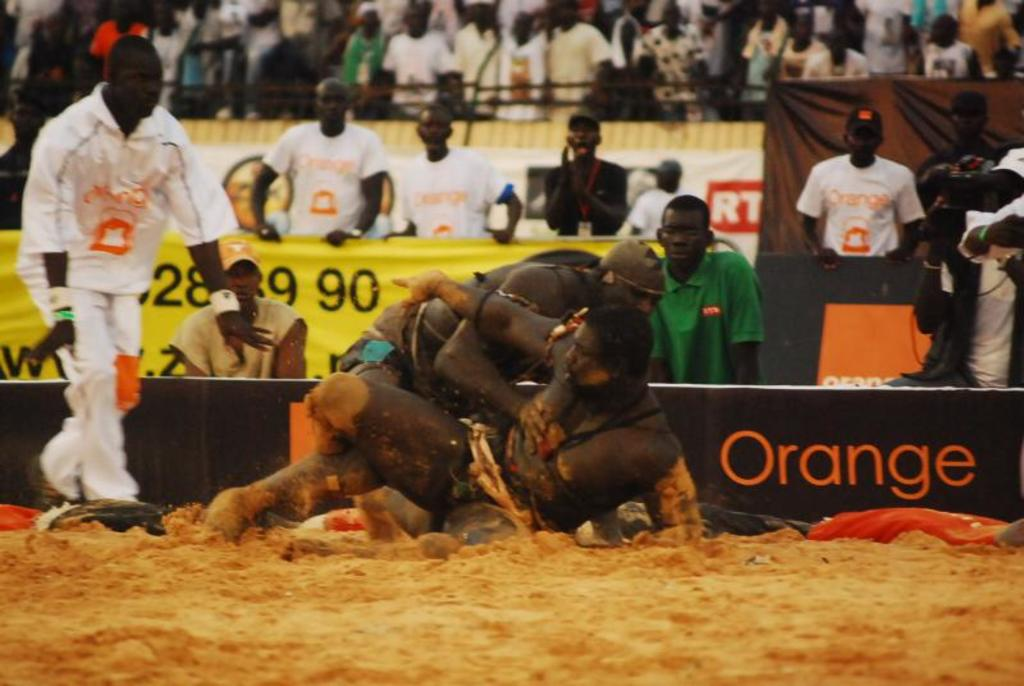Person: (1, 0, 1022, 547)
